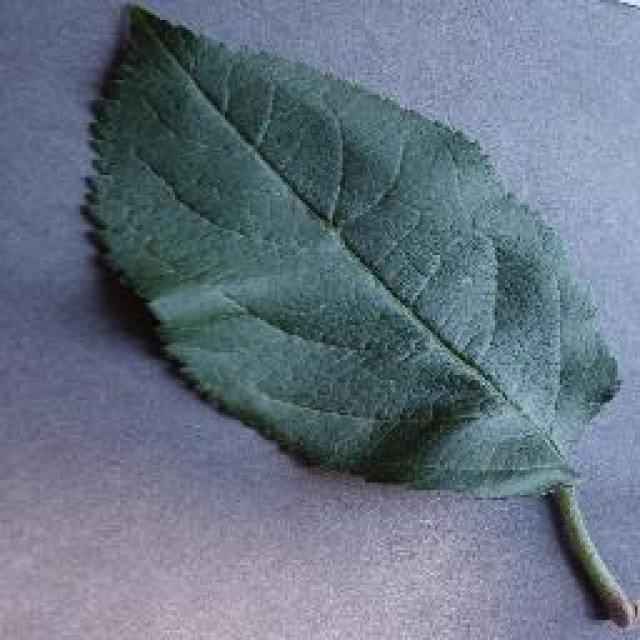apple healthy: (75, 0, 637, 630)
